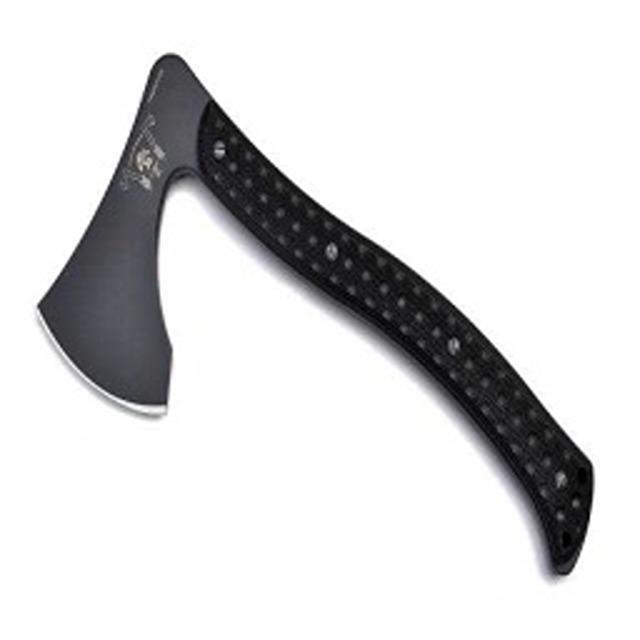ax: (22, 40, 610, 593)
